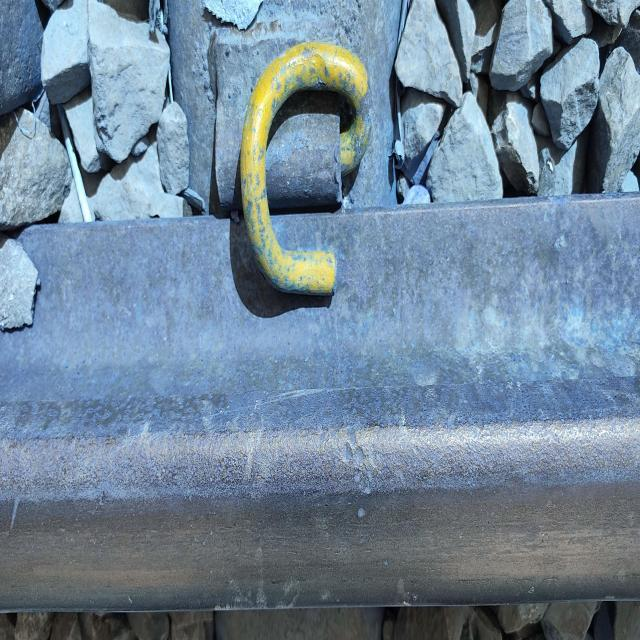Good Fasteners: (198, 16, 379, 324)
